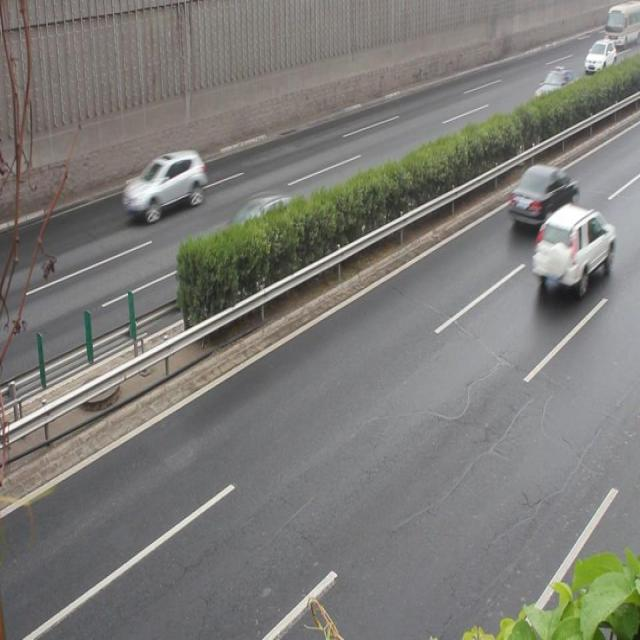car: (532, 203, 615, 295), (216, 192, 302, 268), (126, 149, 206, 221), (508, 162, 580, 228)
